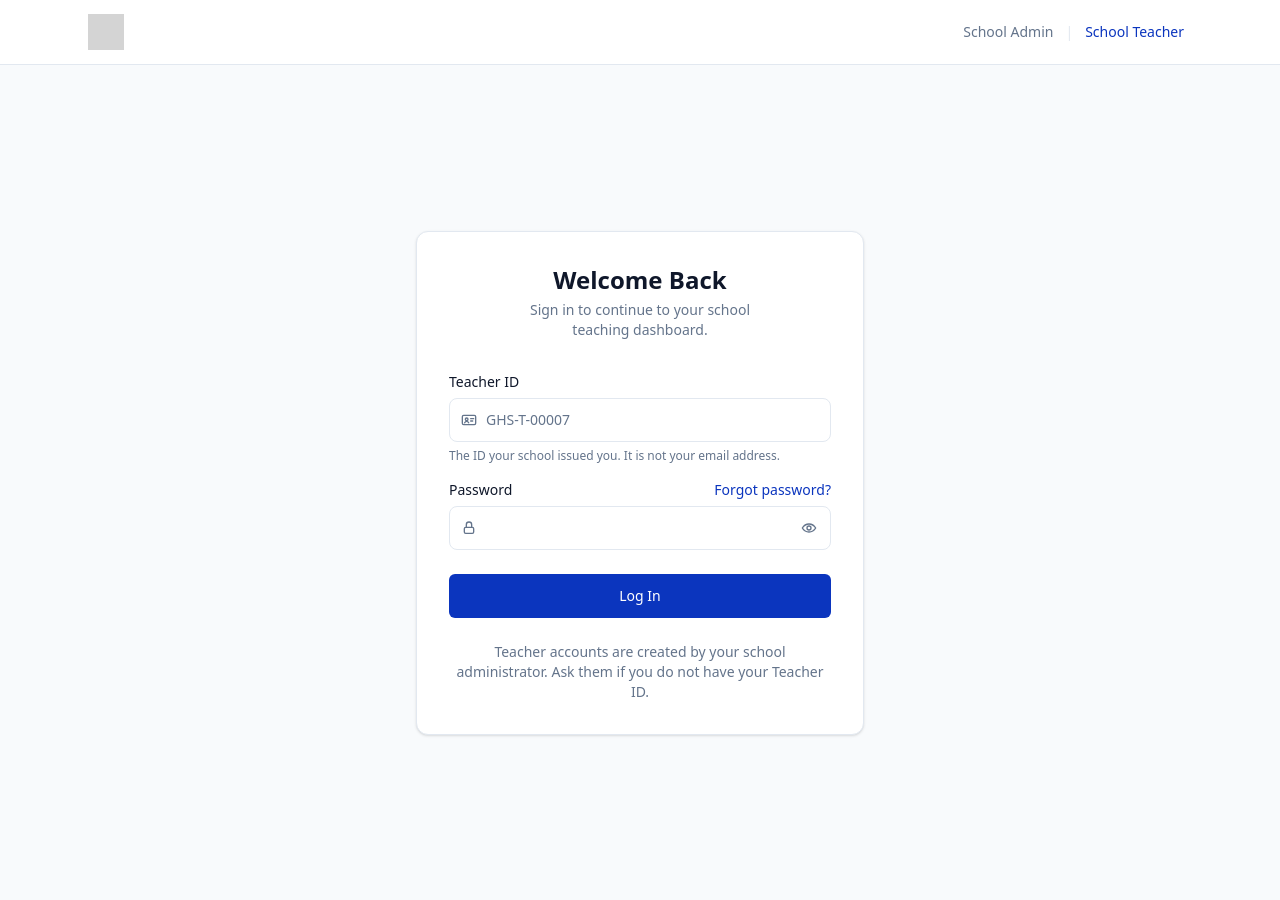
Scenario: TeacherLoginPage › accepts a teacher id in any case
Check: the heading "Welcome Back" is shown, box x1=553 y1=262 x2=727 y2=296
In the field labelled "Teacher ID": (640,420) x1=449 y1=398 x2=831 y2=442, type "ghs-t-00007"
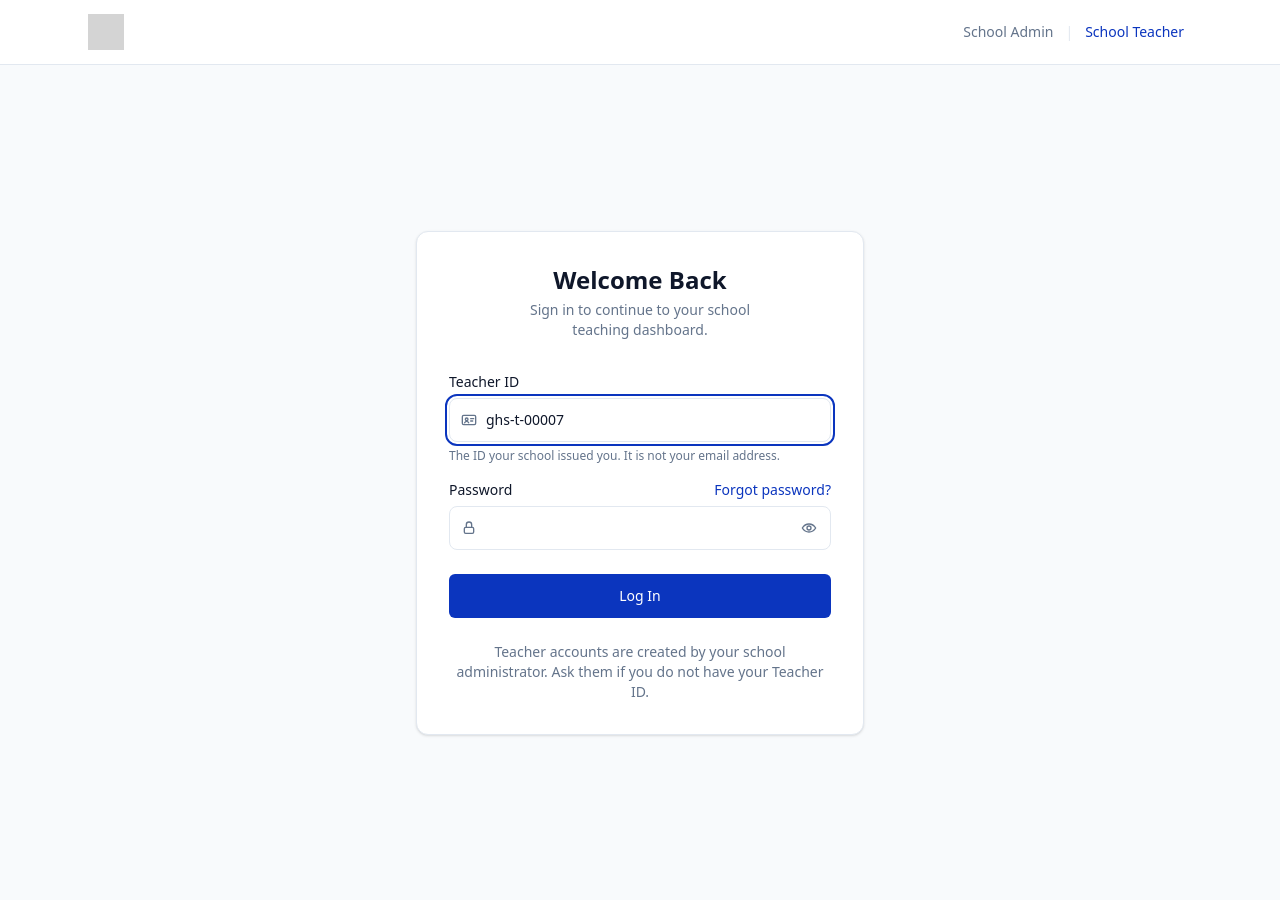
In the password field labelled "Password": (640,528) x1=449 y1=506 x2=831 y2=550, type "password123"
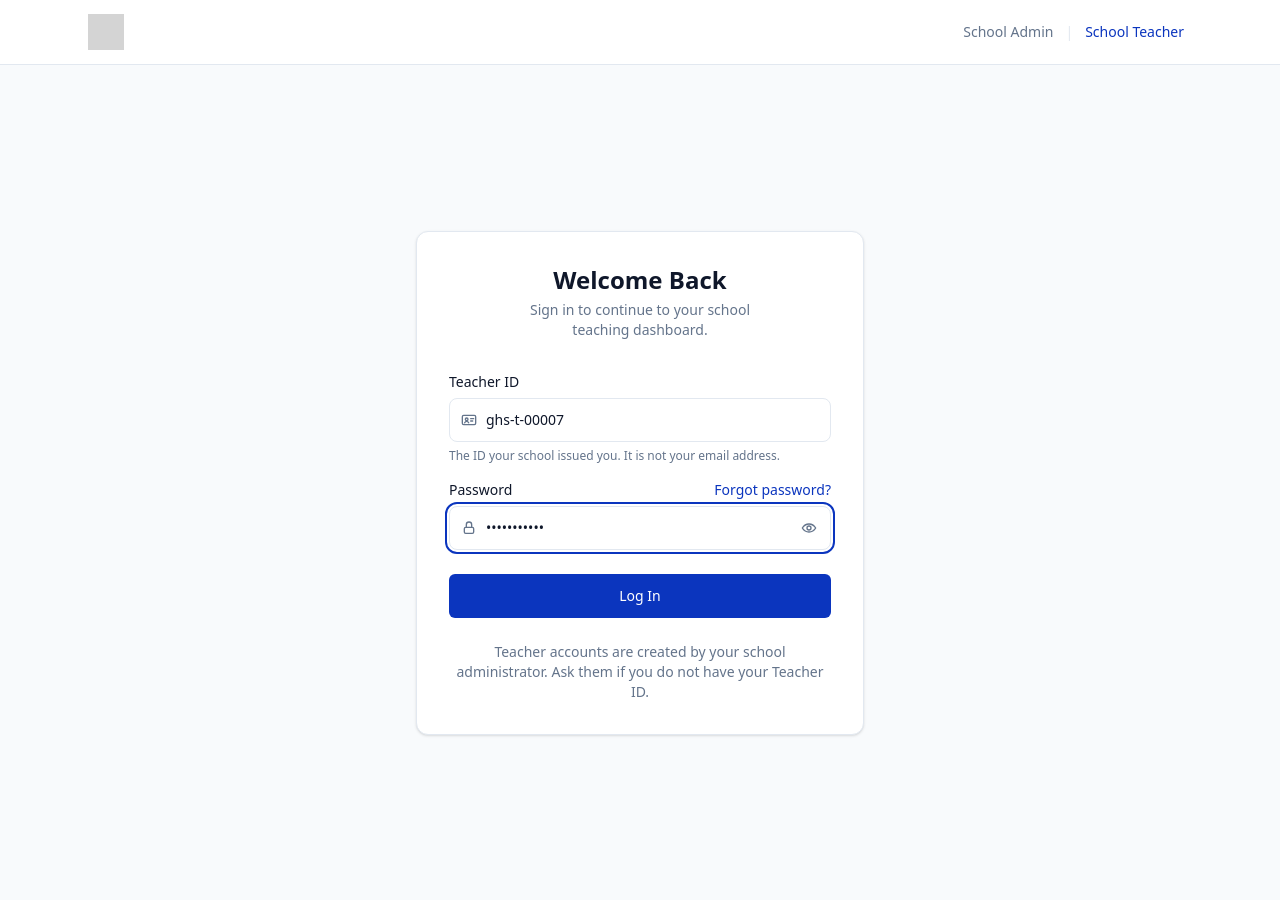
Click the button "Log In": (640,596) x1=449 y1=574 x2=831 y2=618
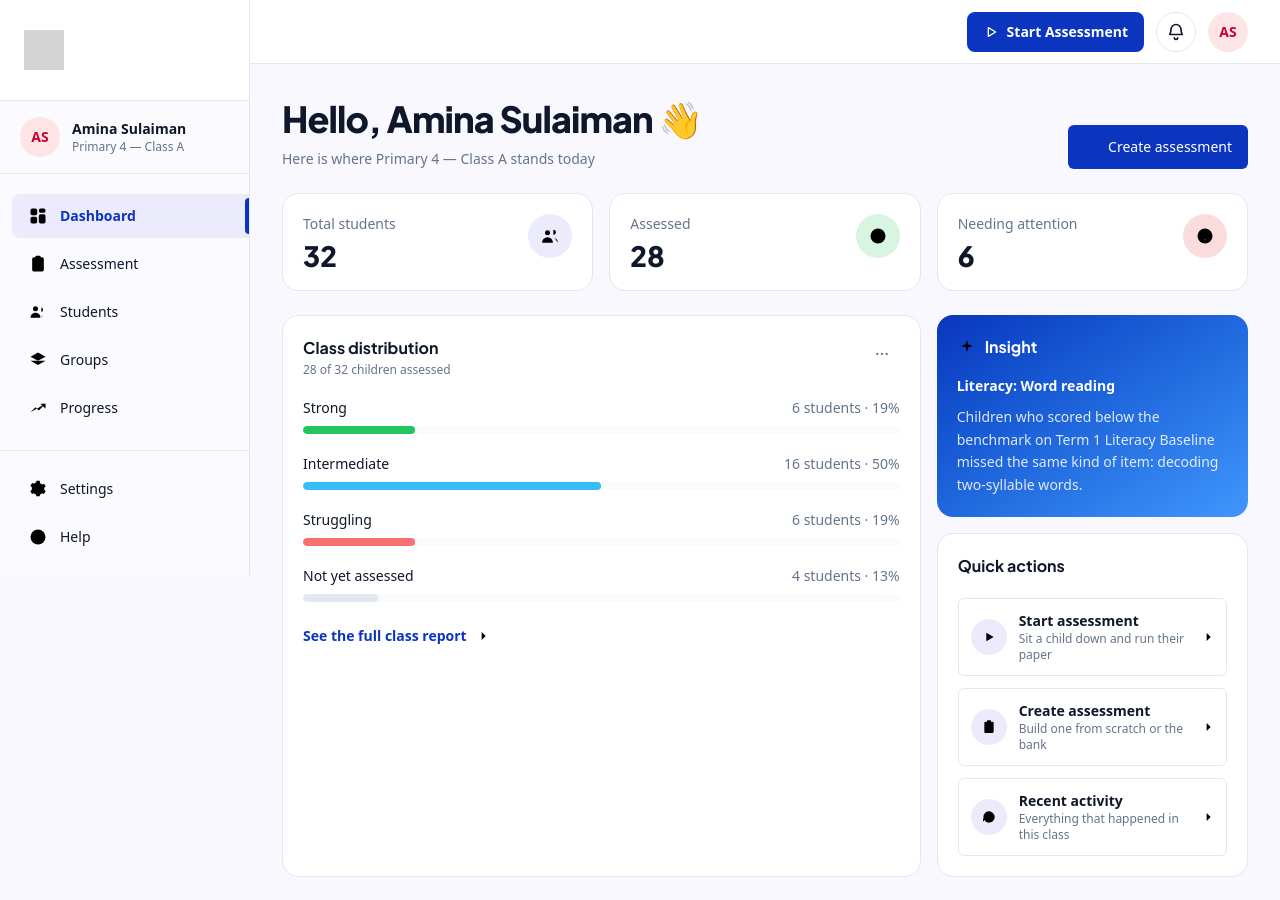
Check: the text "Total students" is shown, box x1=303 y1=214 x2=396 y2=234
